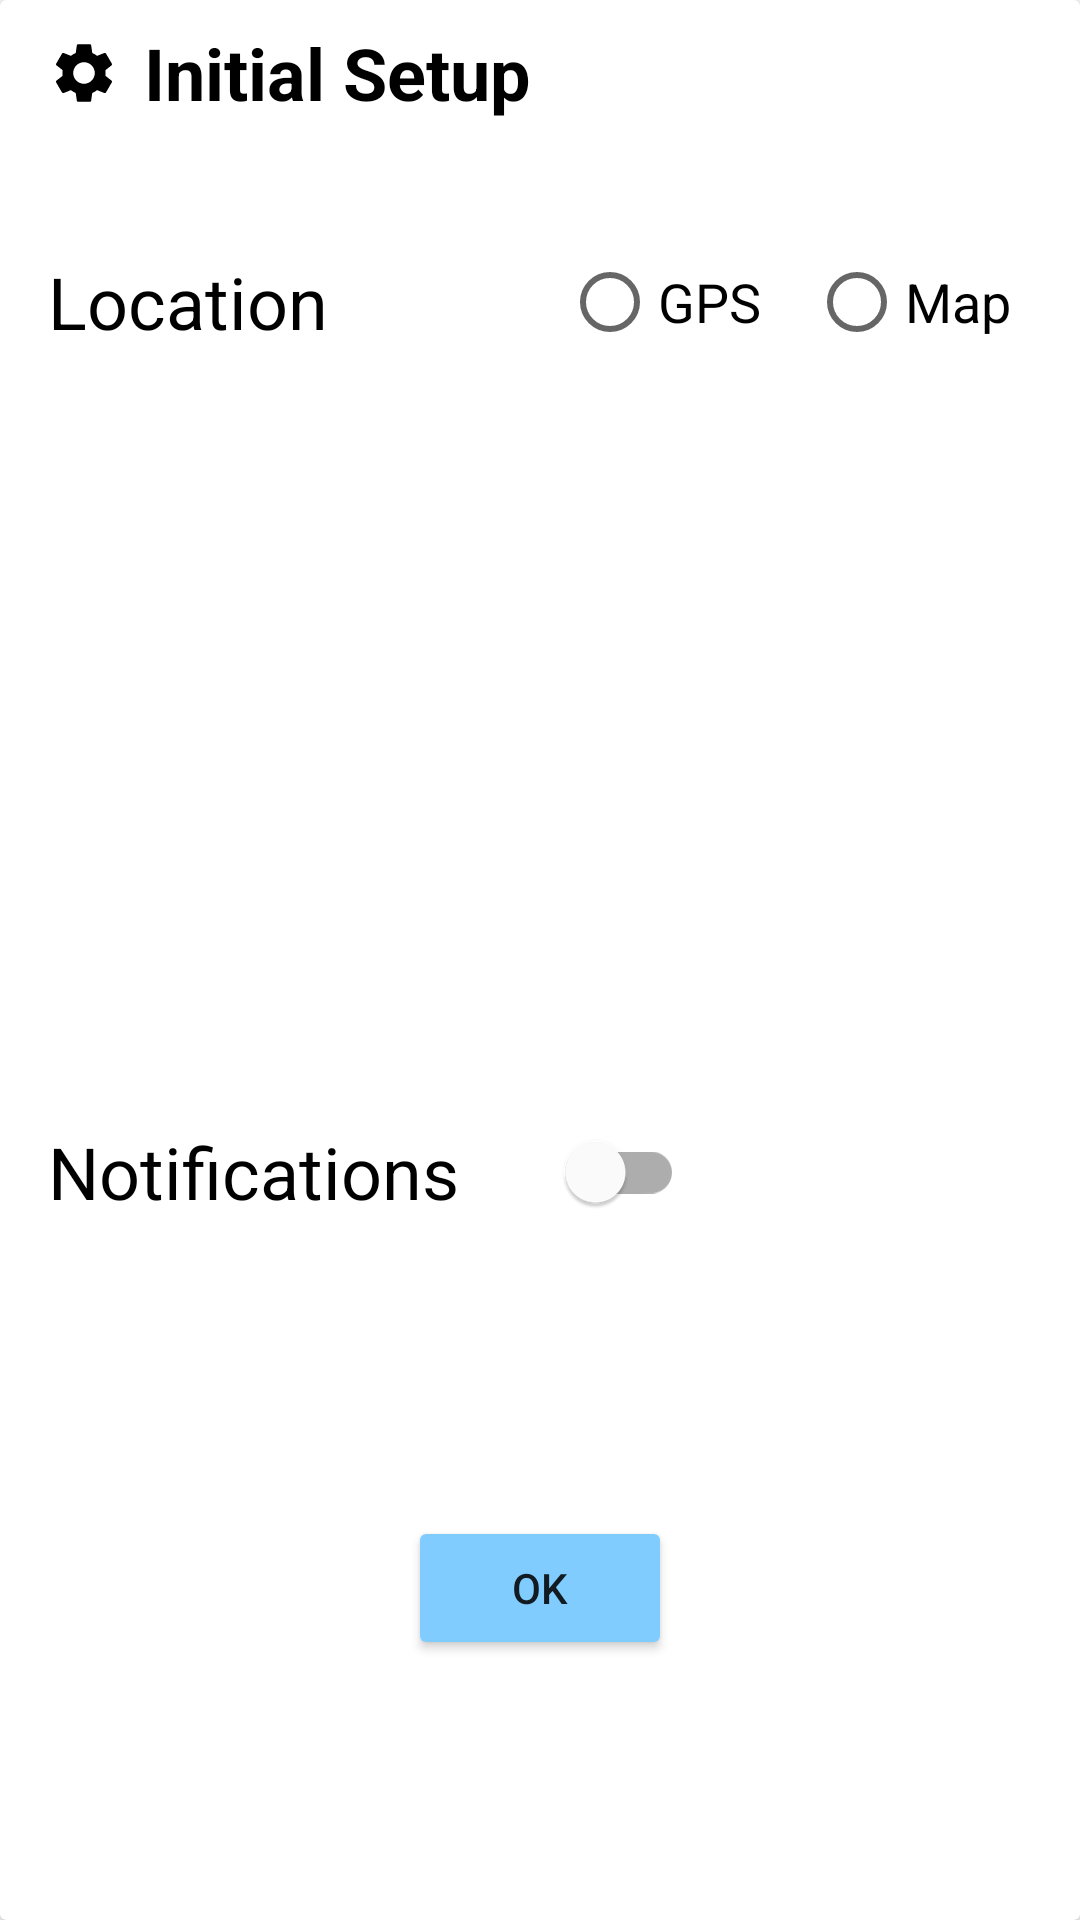

Screen size 1080*1920. Icon name, then its center in pixels as point (x, y):
Settings icon: point (84, 73)
